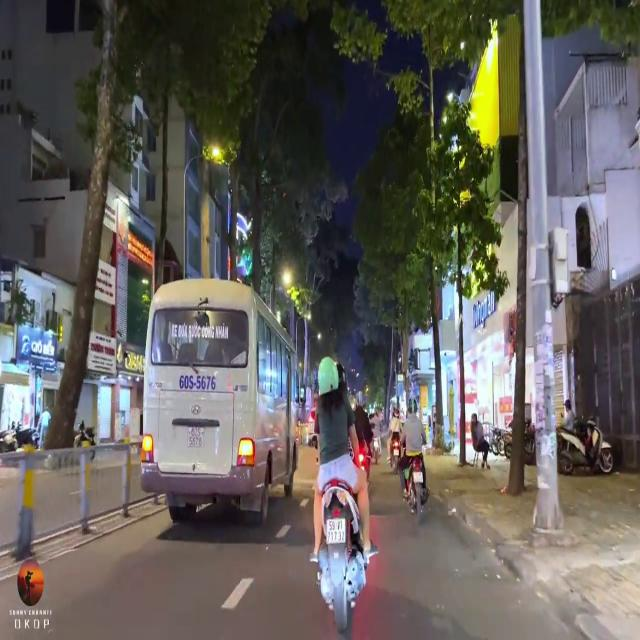bien_trang: (186, 426, 207, 450), (327, 518, 344, 546)
